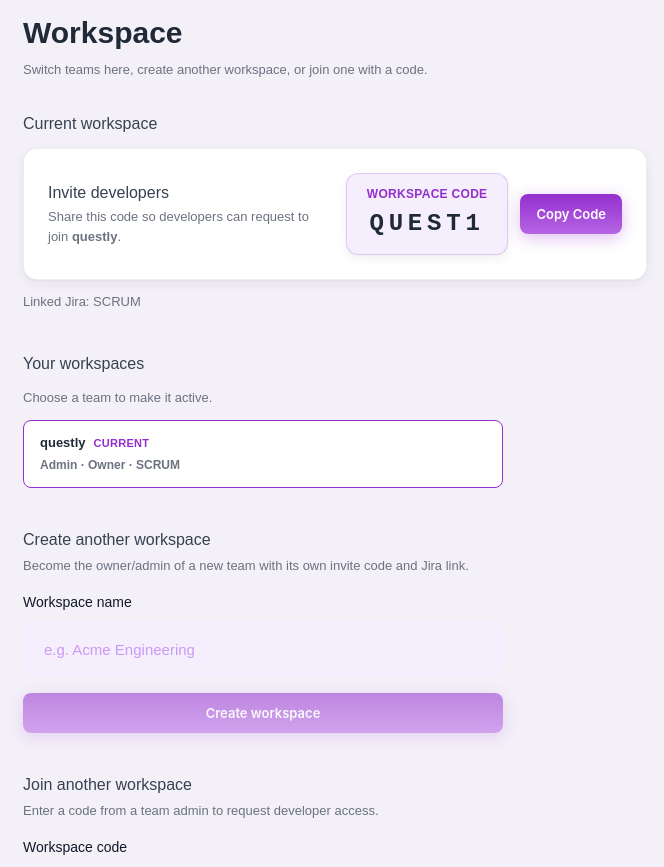
Workspace hub page › lets an admin create another workspace
expect the heading "Workspace" is shown: met, box [23,16,182,49]
expect the heading "Create another workspace" is shown: met, box [23,531,211,548]
Type "Second Team" into the field with placeholder "e.g. Acme Engineering" at coordinates (263, 649), box [23,621,503,677]
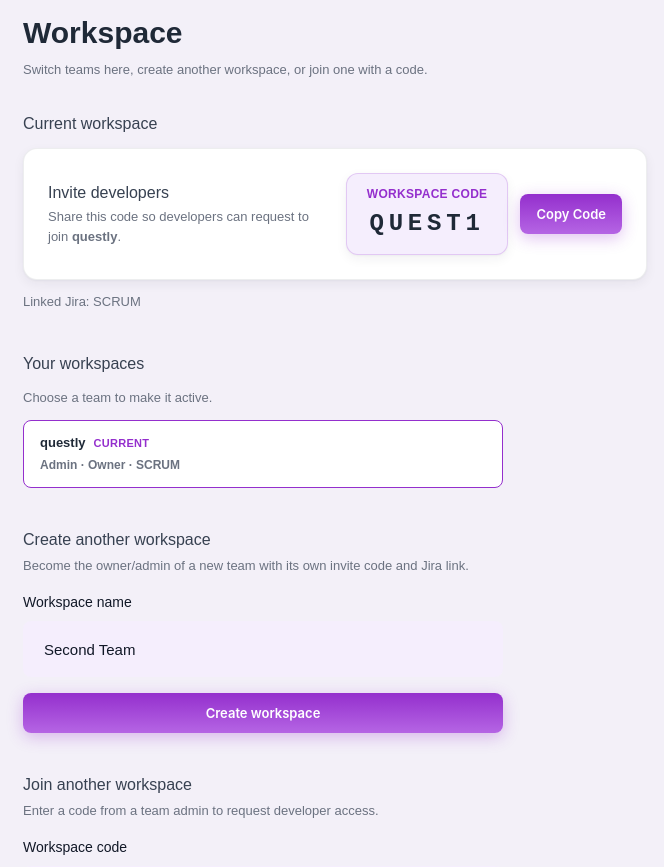
Click the button "Create workspace" at coordinates (263, 713), box [23,693,503,733]
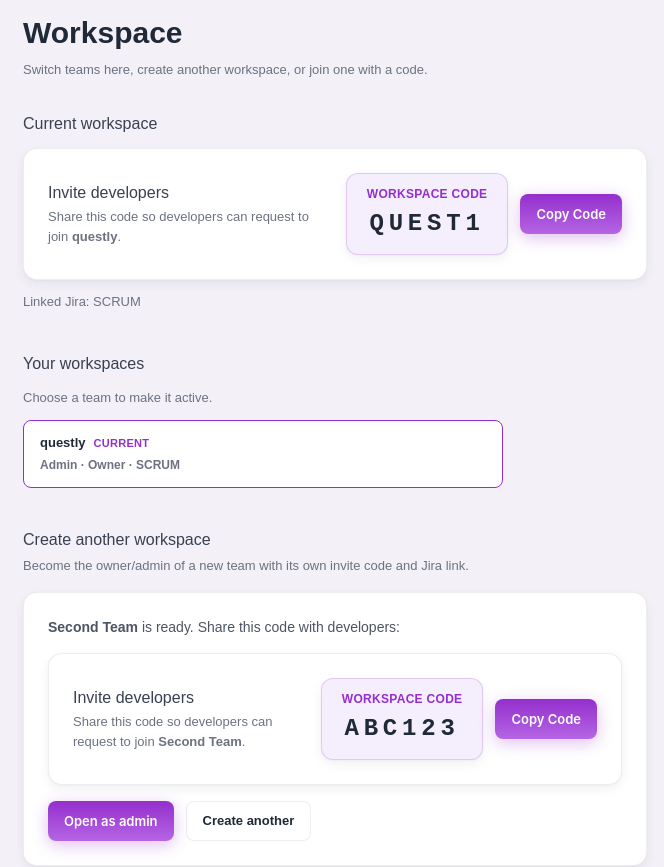
expect the button "Open as admin" is shown: met, box [48,801,174,841]
